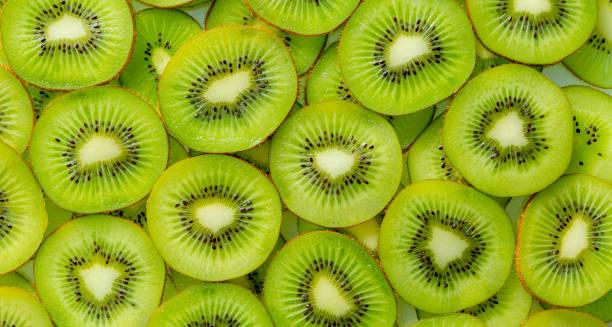kiwi: (151, 19, 302, 163), (373, 177, 517, 313), (436, 61, 578, 193), (31, 88, 173, 215), (145, 152, 280, 284), (339, 0, 481, 120), (274, 103, 405, 229), (251, 223, 401, 327), (33, 213, 168, 327), (526, 173, 612, 311), (1, 0, 131, 91), (466, 0, 602, 74), (0, 138, 48, 279), (135, 283, 278, 327), (238, 0, 363, 39)
